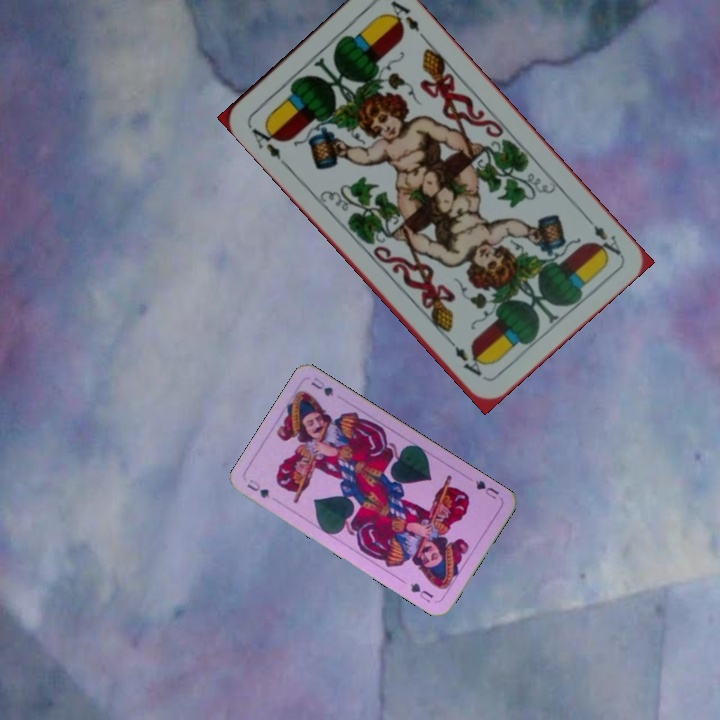EA: (245, 117, 290, 169), (579, 210, 624, 261)
GU: (471, 476, 502, 502), (243, 475, 273, 501)
